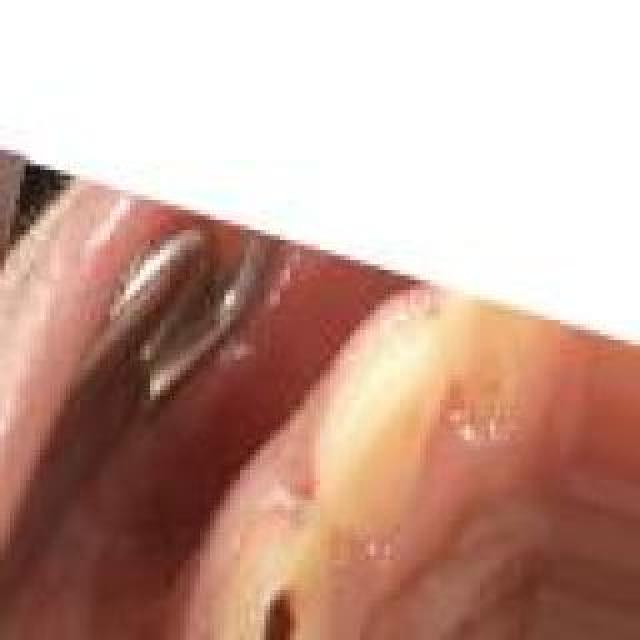cavities: (264, 594, 294, 640)
